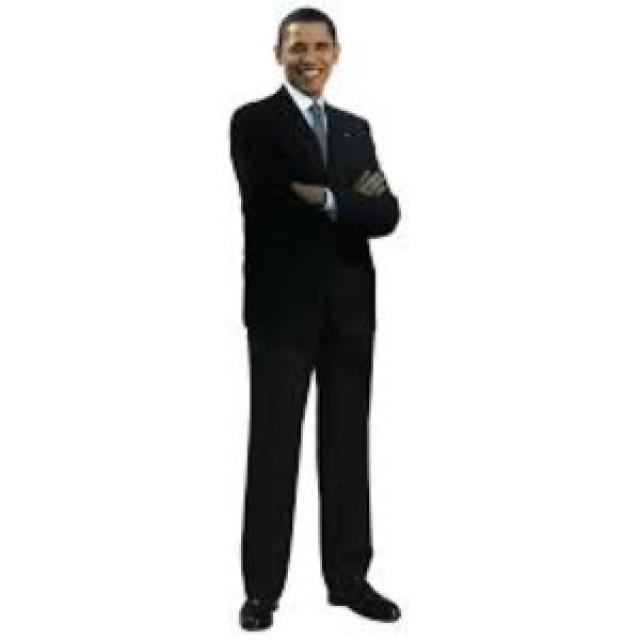adult: (175, 0, 452, 634)
